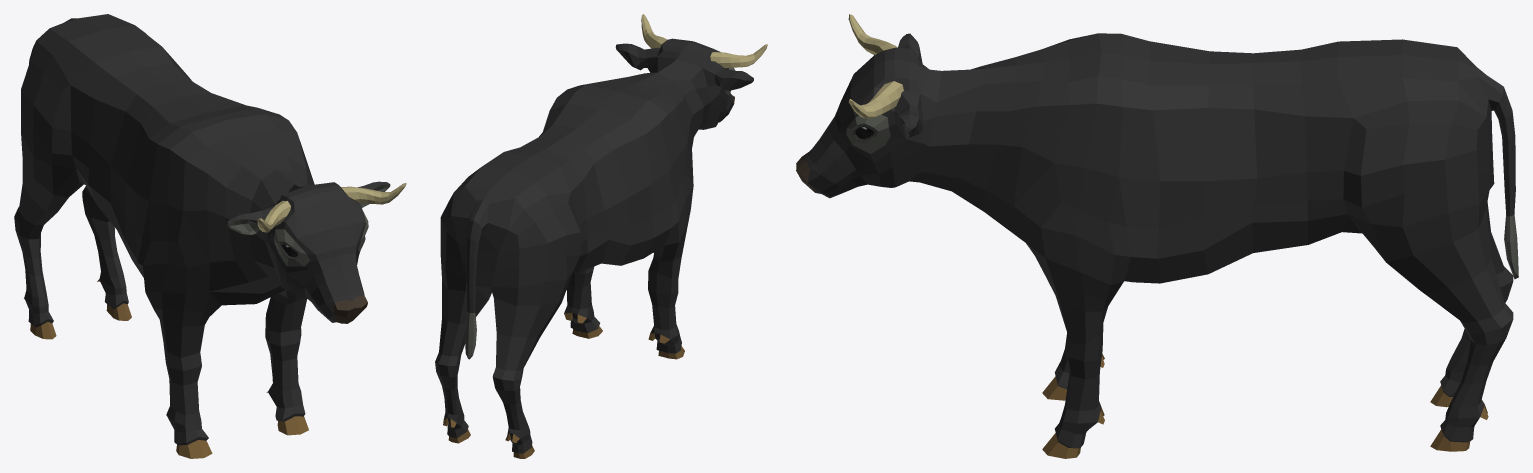
The model's file is bull.glb.
3 renders of one model, left to right at view 1: azimuth 30°, elevation 25°; view 2: azimuth 150°, elevation 25°; view 3: azimuth 270°, elevation 25°, orthographic. The views are drawn at different scales.
Parts seen in each view (by area): view 1: Cow; view 2: Cow; view 3: Cow.
Part boxes in pixels (x1,y1,x2,y2): Cow: (14, 14, 406, 458); Cow: (435, 14, 767, 458); Cow: (796, 14, 1518, 458).
Bounding box in the file's own units: 2.51 × 4.59 × 8.07.
